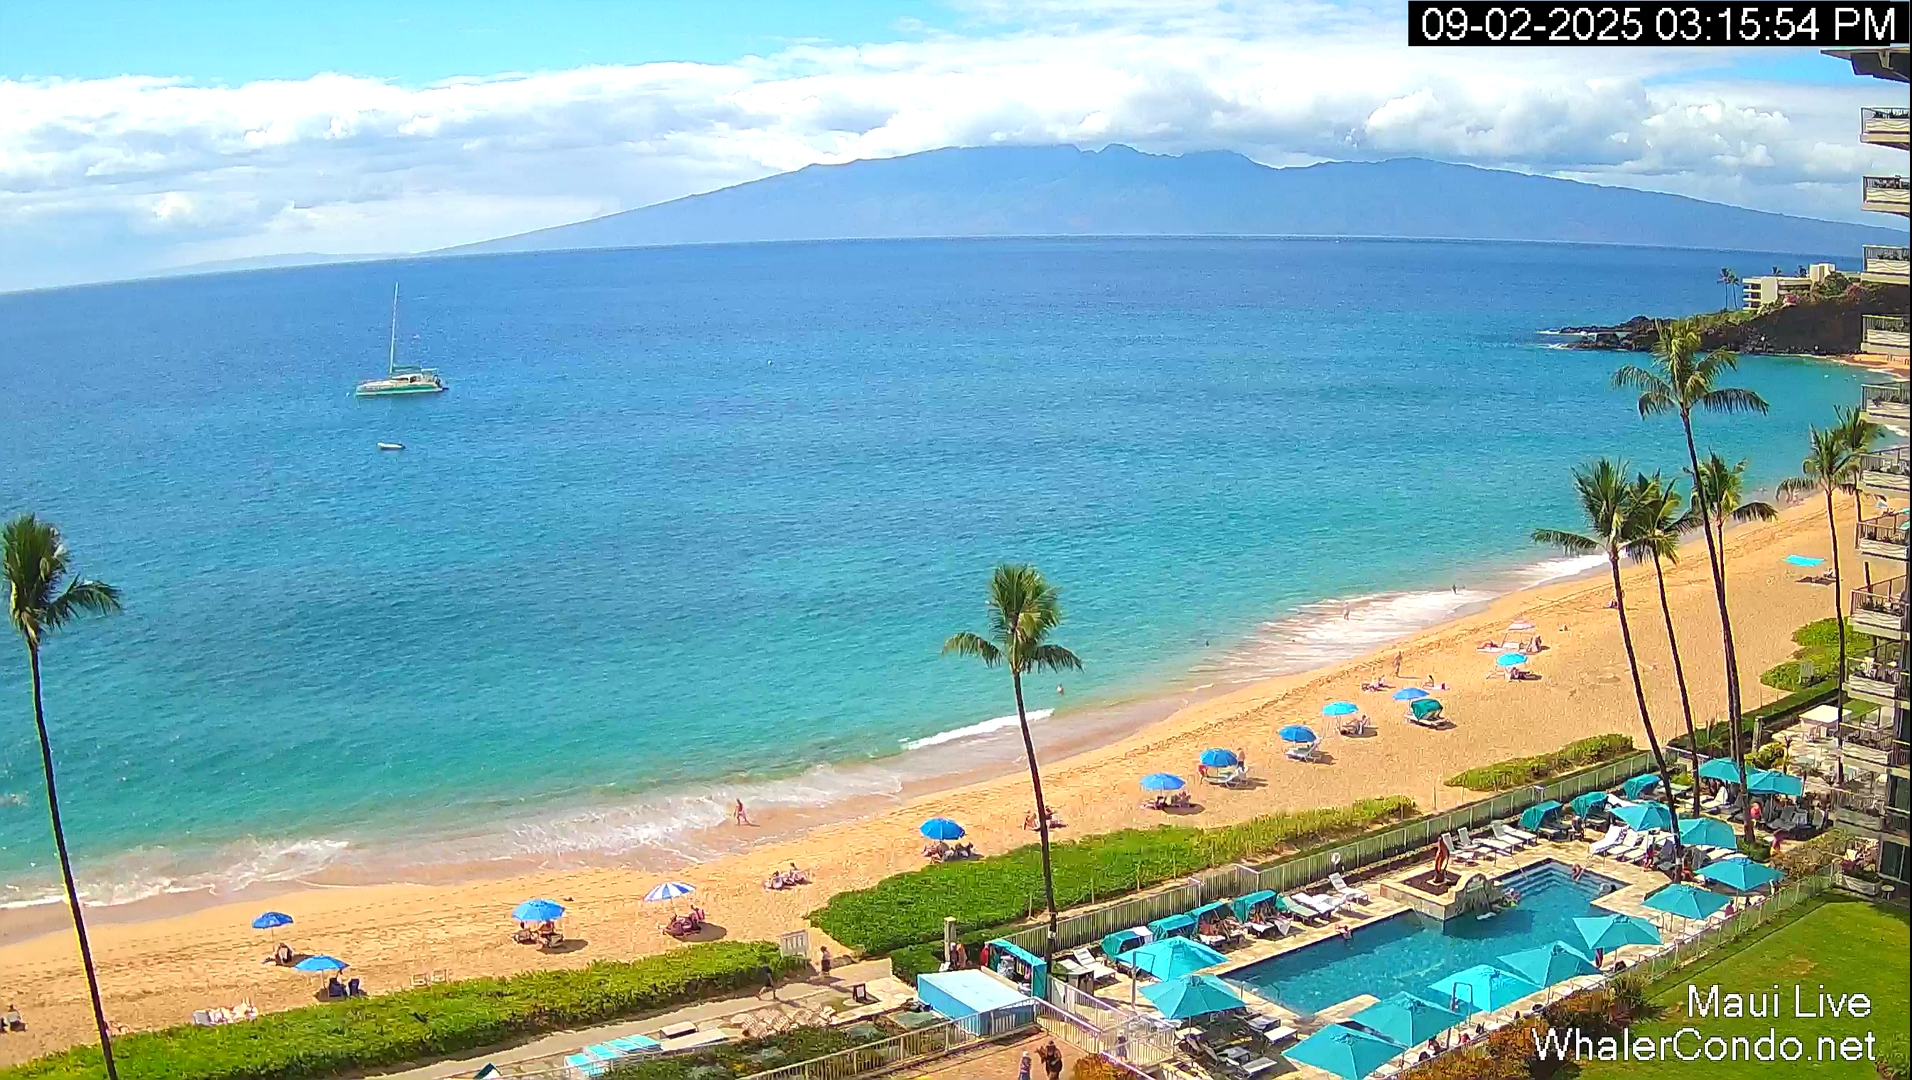boat: (355, 281, 447, 397), (377, 442, 405, 450)
person: (0, 1004, 27, 1033), (1045, 1041, 1063, 1079), (734, 798, 751, 827), (274, 942, 293, 966), (1115, 1031, 1128, 1060), (820, 945, 832, 975), (1023, 810, 1038, 831), (1356, 714, 1370, 734), (1045, 1040, 1057, 1061), (1393, 651, 1403, 676), (1237, 748, 1246, 773), (1024, 1051, 1032, 1079), (1724, 900, 1735, 918), (0, 1017, 10, 1035), (1342, 601, 1351, 620), (1056, 683, 1065, 696), (1205, 639, 1210, 647)
